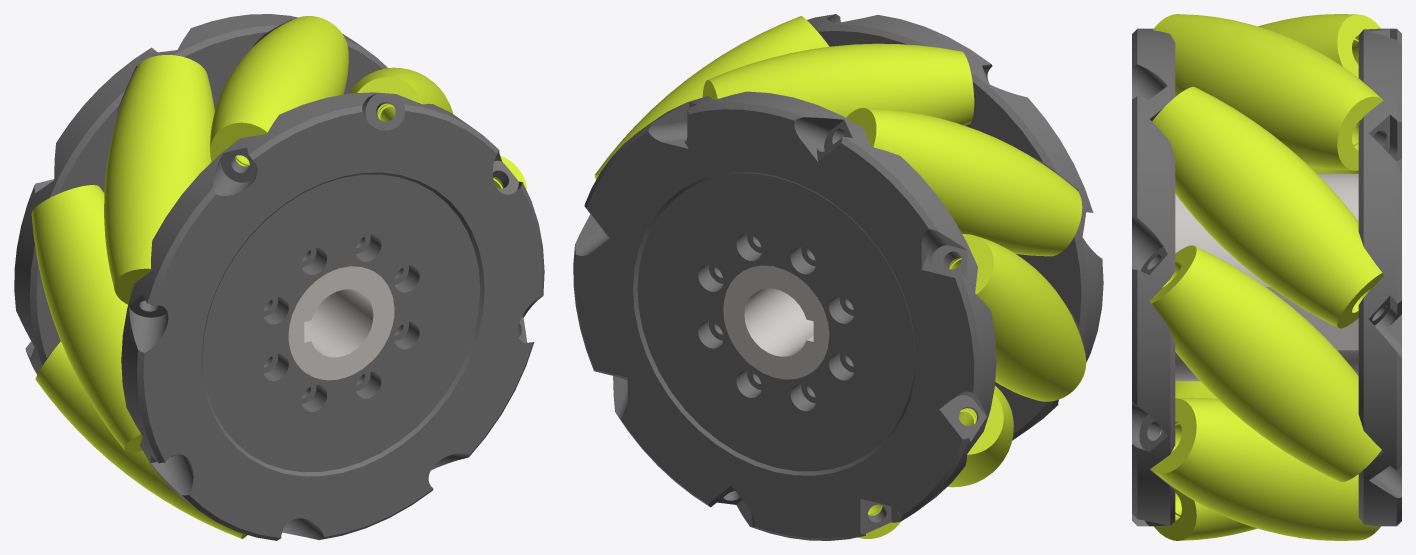
Rendered from B-RBH-0037-A.glb.
3 views of the same model, side by side, from view 1: azimuth 30°, elevation 25°; view 2: azimuth 150°, elevation 25°; view 3: azimuth 270°, elevation 25° (orthographic). The views are drawn at different scales.
Parts seen in each view (by area): view 1: B-RBH-0037-A (×8); view 2: B-RBH-0037-A (×8); view 3: B-RBH-0037-A (×10).
Part boxes in pixels (box(x1,y1,x2,y2)): B-RBH-0037-A (×8): box(14, 14, 544, 540); B-RBH-0037-A (×8): box(573, 14, 1103, 540); B-RBH-0037-A (×10): box(1132, 14, 1401, 540).
Size of the model in its own units: 305 by 305 by 156.
